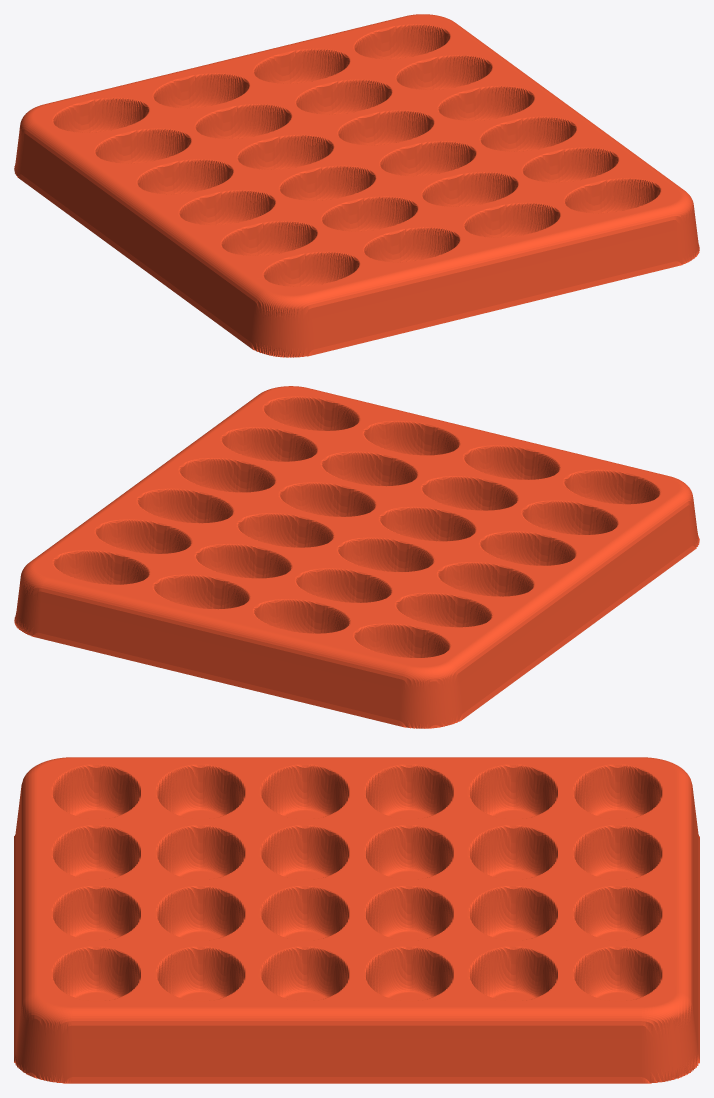
File: mold.glb
3 renders of one model, top to bottom at view 1: azimuth 30°, elevation 25°; view 2: azimuth 150°, elevation 25°; view 3: azimuth 270°, elevation 25°, orthographic. The views are drawn at different scales.
Visible parts, largest first — view 1: geometry_0; view 2: geometry_0; view 3: geometry_0.
Part boxes in pixels (<box>): geometry_0: <box>14,14,699,357</box>; geometry_0: <box>14,386,699,728</box>; geometry_0: <box>14,757,699,1083</box>.
Size of the model in its own units: 0.098 by 0.0114 by 0.1059.
